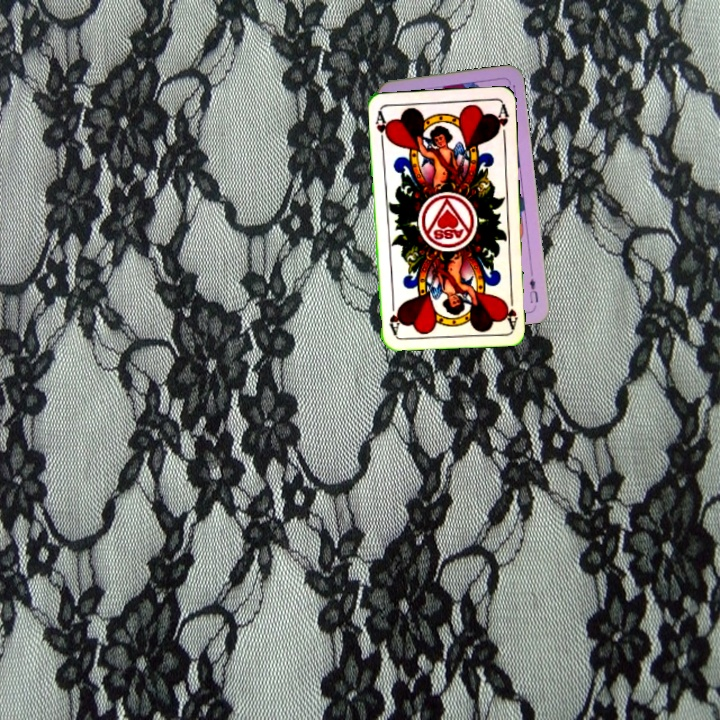EU: (525, 274, 541, 306)
HA: (500, 289, 521, 330), (372, 106, 392, 147)
